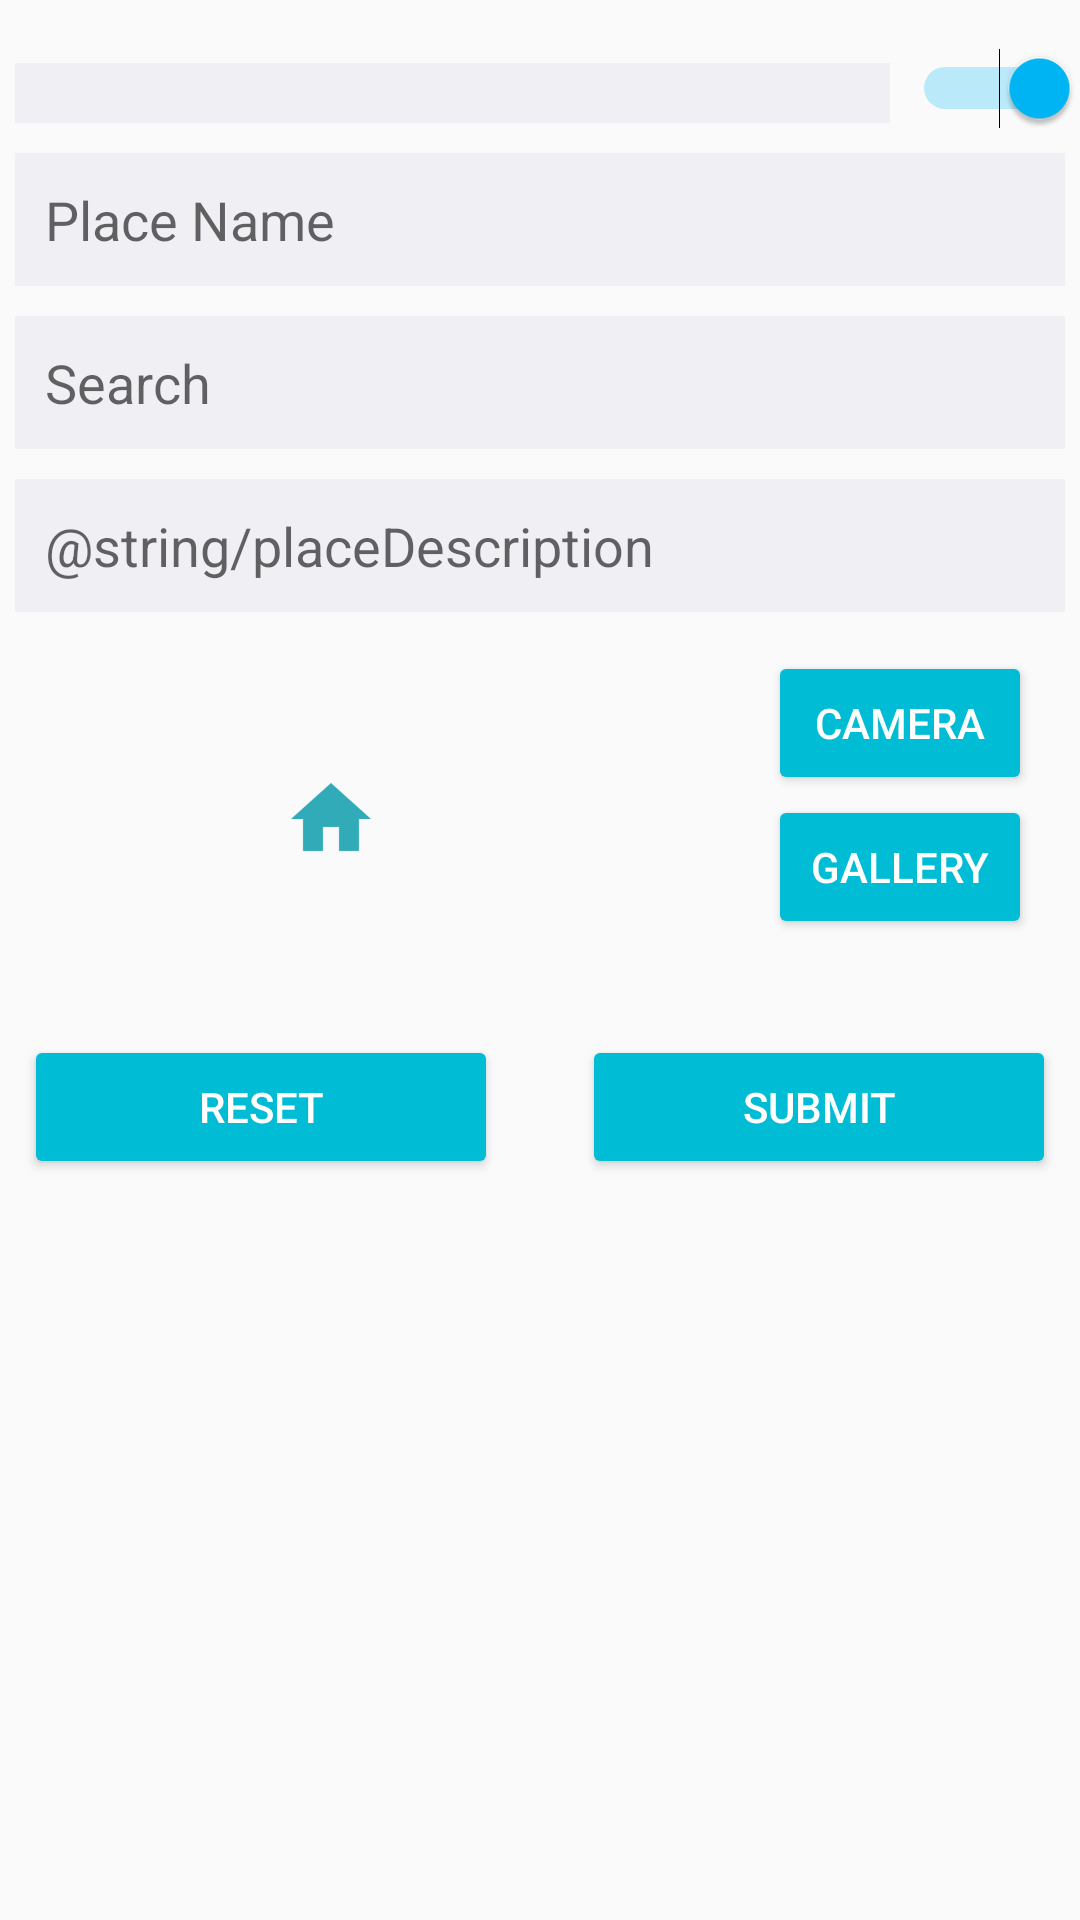

Where icons sit on this 1080px x 1920px app screen, as region(x1, y1, x2, y2):
home: region(291, 783, 371, 851)
